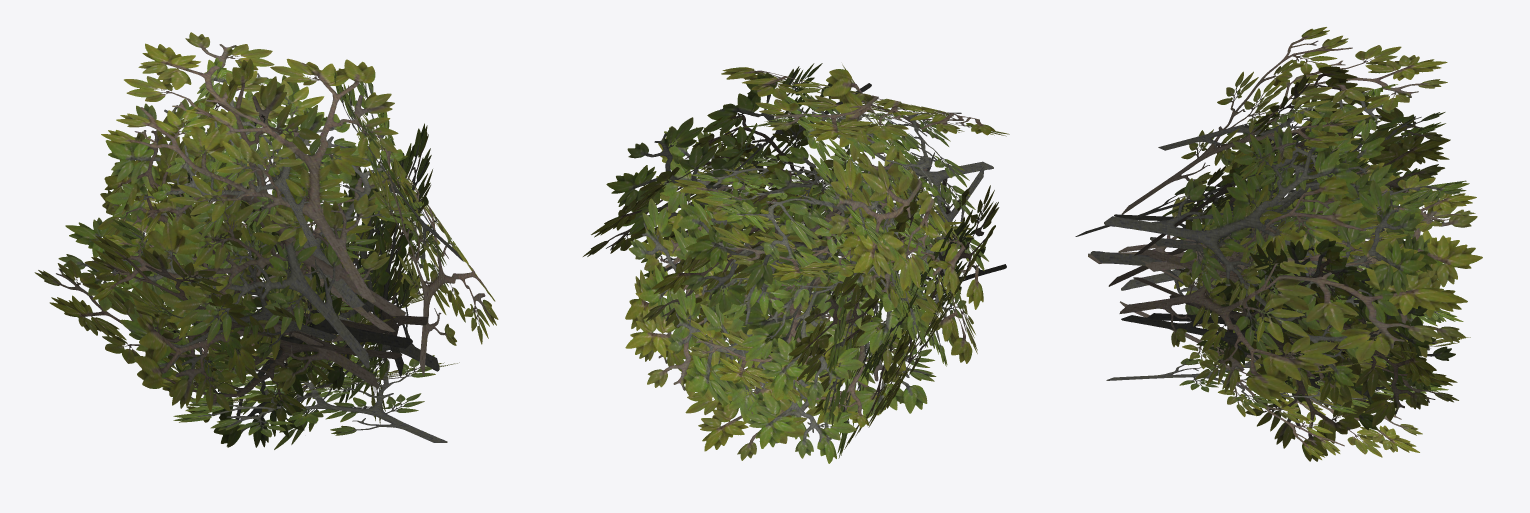
File: bush_001.fbx
3 renders of one model, left to right at view 1: azimuth 30°, elevation 25°; view 2: azimuth 150°, elevation 25°; view 3: azimuth 270°, elevation 25°, orthographic. The views are drawn at different scales.
Visible parts, largest first — view 1: bush.001; view 2: bush.001; view 3: bush.001.
Boxes of the visible parts, <box> form: bush.001: <box>34,32,498,449</box>; bush.001: <box>583,63,1009,463</box>; bush.001: <box>1075,27,1482,461</box>.
Bounding box in the file's own units: 308 × 341 × 311.
